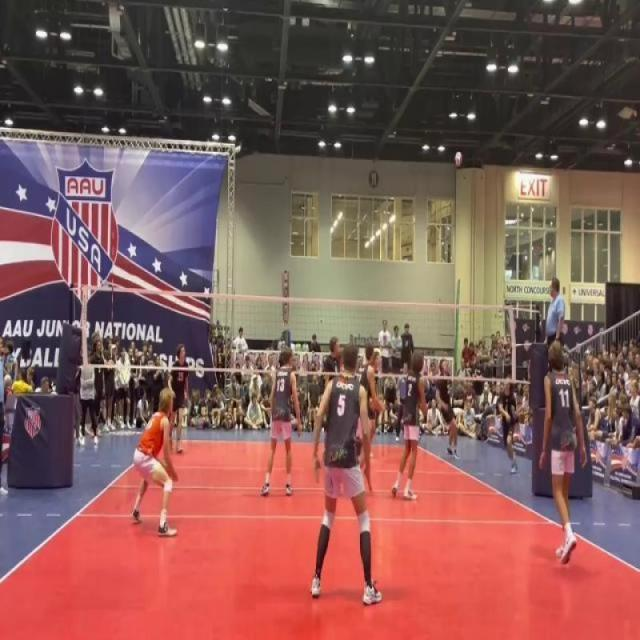volleyball: (453, 150, 462, 168)
